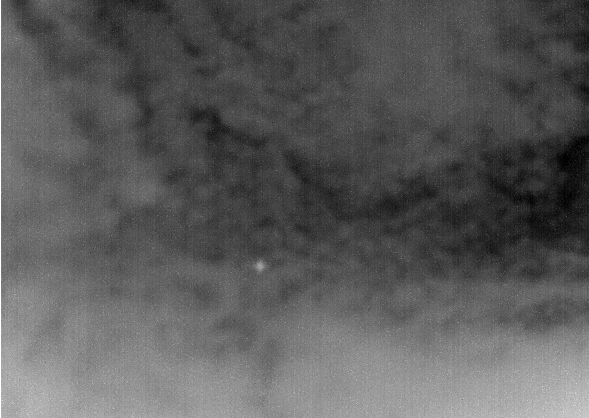dim target: (253, 259, 266, 272)
